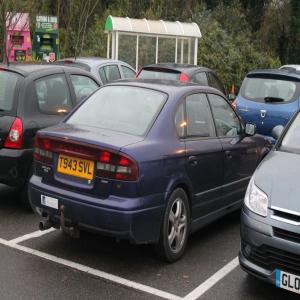Vehicle-registration-plate: (54, 145, 98, 198), (277, 272, 300, 295)
